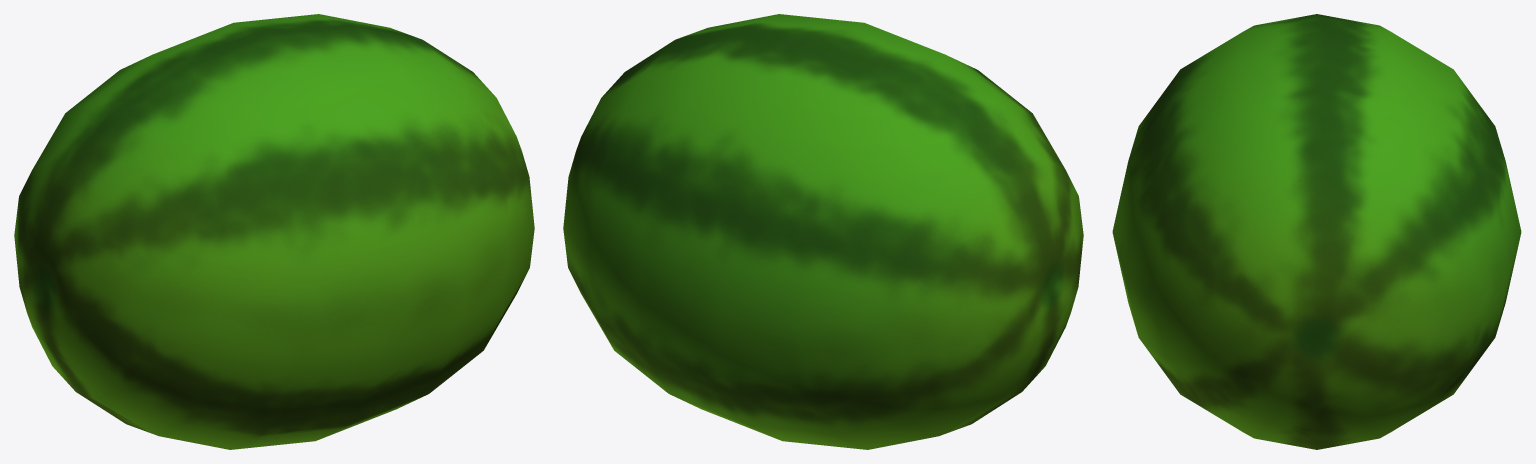
The model's file is WaterMelon.fbx.
The picture shows the model from 3 angles, left to right: view 1: azimuth 30°, elevation 25°; view 2: azimuth 150°, elevation 25°; view 3: azimuth 270°, elevation 25°; orthographic projection. The views are drawn at different scales.
Visible parts, largest first — view 1: Watermelon; view 2: Watermelon; view 3: Watermelon.
Part boxes in pixels (x1=…): Watermelon: x1=14, y1=14, x2=534, y2=449; Watermelon: x1=563, y1=14, x2=1083, y2=449; Watermelon: x1=1112, y1=14, x2=1521, y2=449.
Bounding box in the file's own units: 457 × 369 × 369.
1 material, 1 textured.
